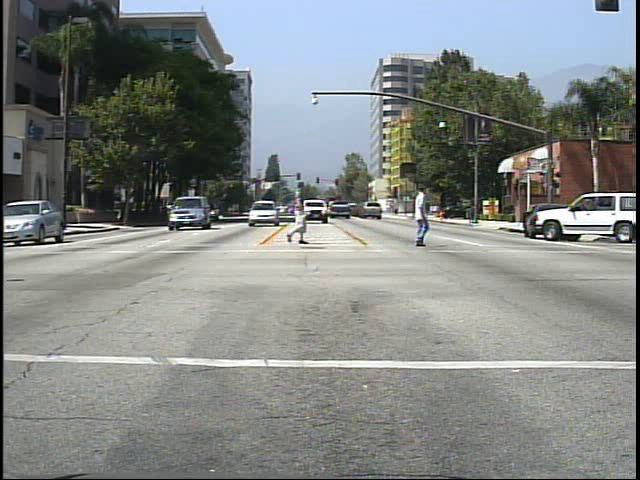person: (401, 176, 437, 254), (280, 175, 317, 249)
